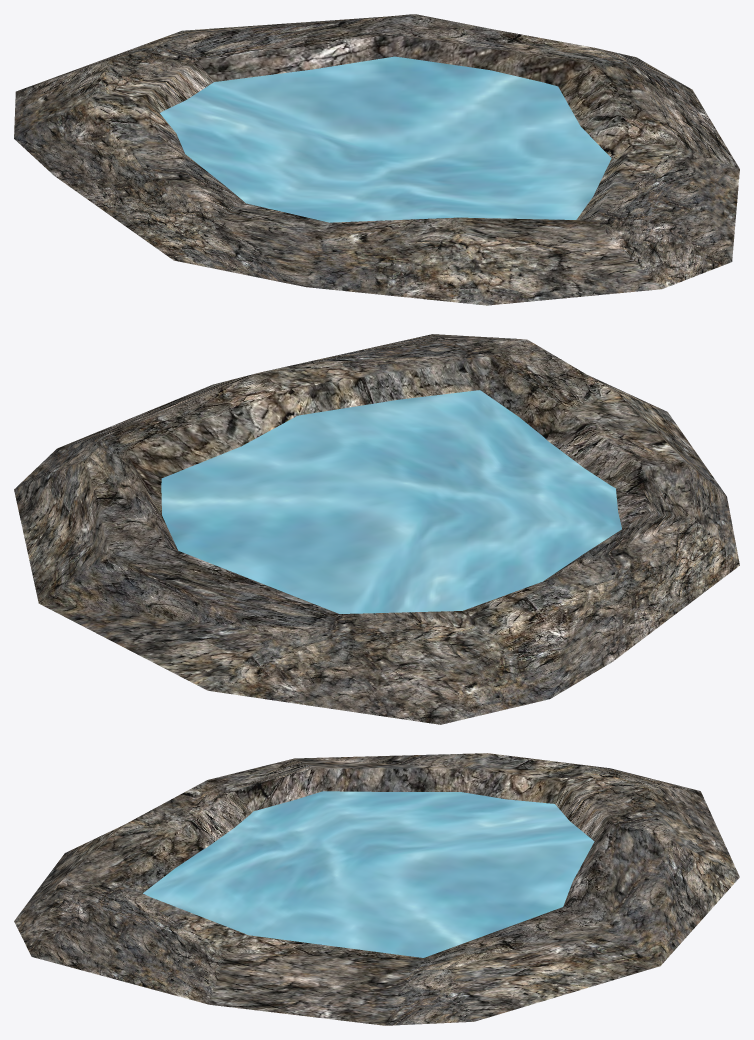
Rendered from pir_m_prp_cav_large_pool.fbx.
The picture shows the model from 3 angles, top to bottom: view 1: azimuth 30°, elevation 25°; view 2: azimuth 150°, elevation 25°; view 3: azimuth 270°, elevation 25°; orthographic projection. The views are drawn at different scales.
Parts seen in each view (by area): view 1: pCube71, pCube72; view 2: pCube71, pCube72; view 3: pCube71, pCube72.
Part boxes in pixels (left/top/right/bottom): pCube71: left=14, top=14, right=739, bottom=305; pCube72: left=160, top=56, right=611, bottom=222; pCube71: left=14, top=334, right=739, bottom=724; pCube72: left=161, top=390, right=621, bottom=613; pCube71: left=14, top=753, right=739, bottom=1025; pCube72: left=143, top=791, right=594, bottom=957.
Bounding box in the file's own units: 9266 × 581 × 10888.
Materials: 2 (2 with a texture image).
